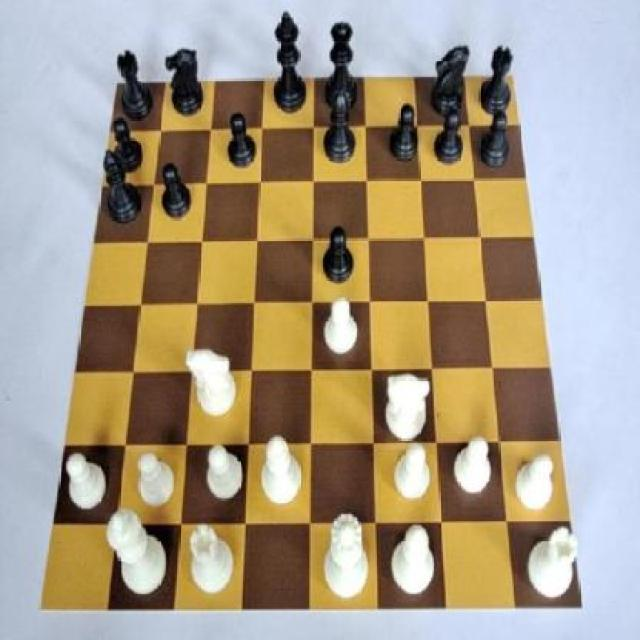bishop: (100, 146, 145, 231), (323, 91, 360, 170)
black-bishop: (269, 9, 312, 122)
black-king: (164, 44, 208, 128), (425, 43, 472, 121)
black-knight: (103, 117, 148, 180), (320, 223, 361, 288), (428, 103, 465, 174), (472, 103, 508, 174), (155, 158, 193, 224), (228, 105, 258, 177), (386, 103, 420, 165)
black-pawn: (322, 14, 359, 122)
black-queen: (108, 48, 162, 120), (480, 43, 515, 119)
black-rook: (260, 431, 303, 518), (391, 522, 437, 602)
white-bishop: (102, 511, 170, 602)
white-king: (182, 348, 240, 427), (380, 368, 433, 443)
white-knight: (509, 443, 559, 517), (60, 450, 111, 514), (451, 435, 497, 501), (134, 451, 178, 517), (320, 297, 359, 366), (207, 440, 246, 507), (394, 446, 436, 506)
white-pawn: (317, 508, 373, 604)
white-queen: (526, 524, 581, 604), (188, 525, 238, 600)
